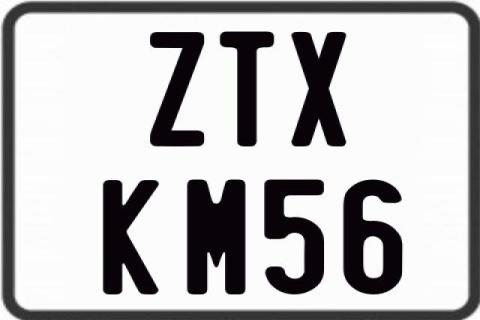0: (264, 178, 329, 294), (342, 177, 403, 293)
K: (101, 178, 163, 294)
M: (184, 178, 244, 296)
T: (218, 31, 274, 147)
X: (289, 30, 347, 146)
Z: (148, 32, 206, 150)
